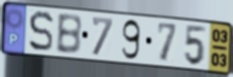5: (184, 23, 208, 67)
7: (90, 15, 115, 59), (156, 22, 179, 64)
9: (121, 18, 142, 61)
B: (55, 13, 84, 57)
S: (28, 10, 55, 54)
